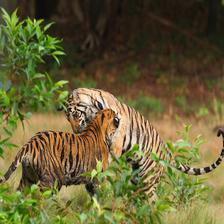tiger: (58, 74, 224, 186), (4, 106, 122, 208)
